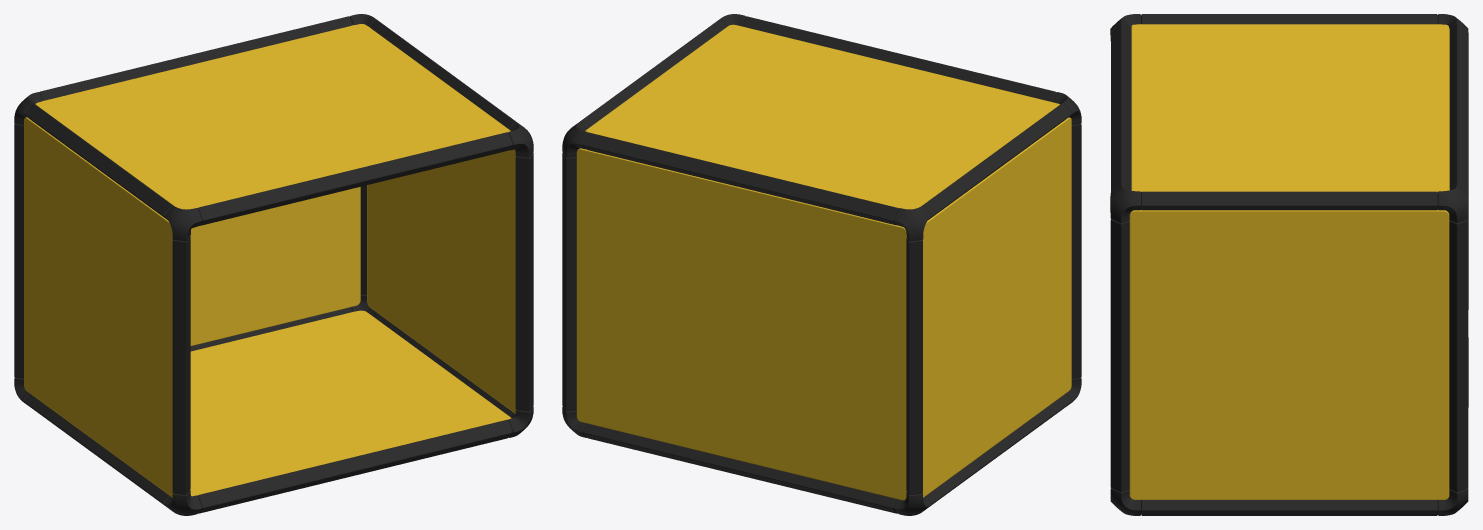
3 renders of one model, left to right at view 1: azimuth 30°, elevation 25°; view 2: azimuth 150°, elevation 25°; view 3: azimuth 270°, elevation 25°, orthographic. The views are drawn at different scales.
Parts seen in each view (by area): view 1: 479x374x374; view 2: 479x374x374; view 3: 479x374x374.
Part boxes in pixels (x1=…): 479x374x374: x1=14, y1=14, x2=533, y2=515; 479x374x374: x1=562, y1=14, x2=1081, y2=515; 479x374x374: x1=1110, y1=14, x2=1468, y2=515.
Size of the model in its own units: 0.5567 by 0.4516 by 0.4513.
